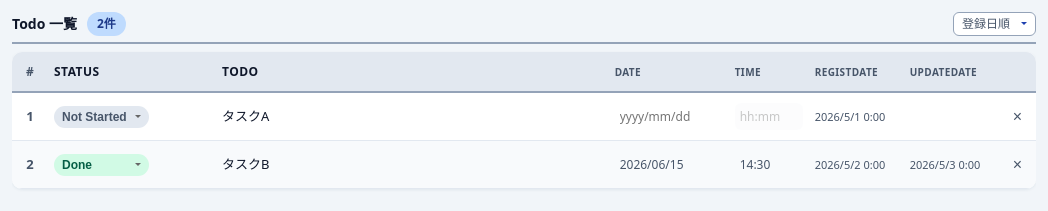
Test case: TodoTable › enters edit mode on todo text click
Click the text "タスクA" at (246,116), box [222,107,269,125]
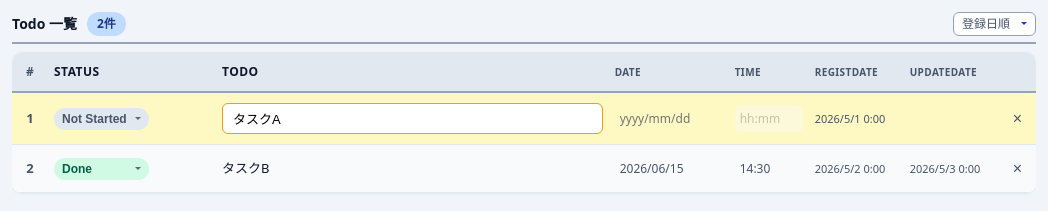
Expected: the field showing "タスクA" in the row of "2026/5/1 0:00" is shown, [222,103,603,134]
